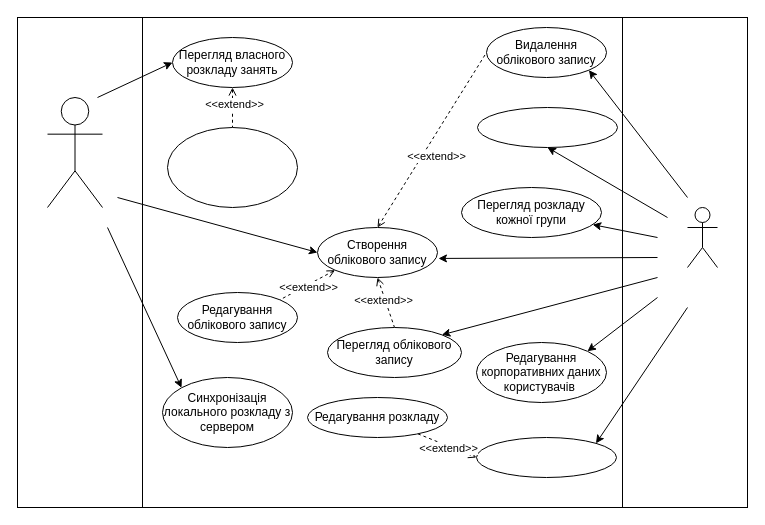
Image size: 765x525. Some labels were removed from this diagram. The shapes that lost their labels are listed below. From the top down, each one's centre as x and y in pixels, then its label:
(x=547, y=127): Пошук користувачів
(x=74, y=152): Teacher
(x=232, y=167): Перегляд детальної інформації про обране заняття
(x=702, y=237): Dispatcher
(x=546, y=457): Будування розкладу
